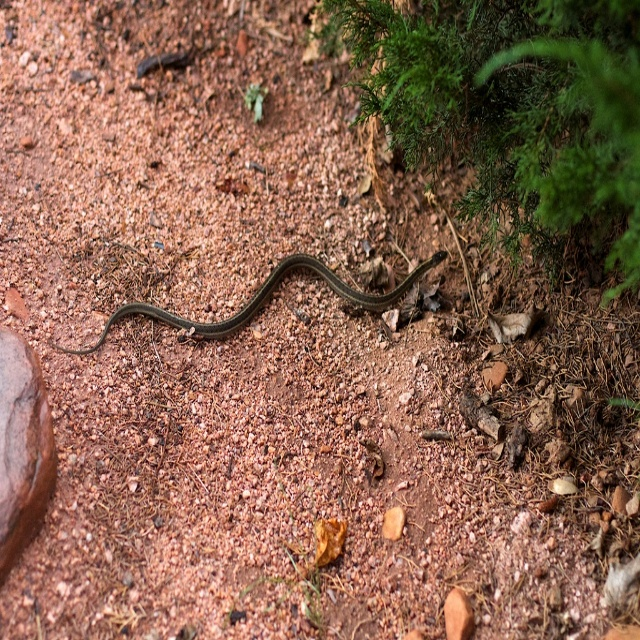Snake: (49, 250, 450, 354)
